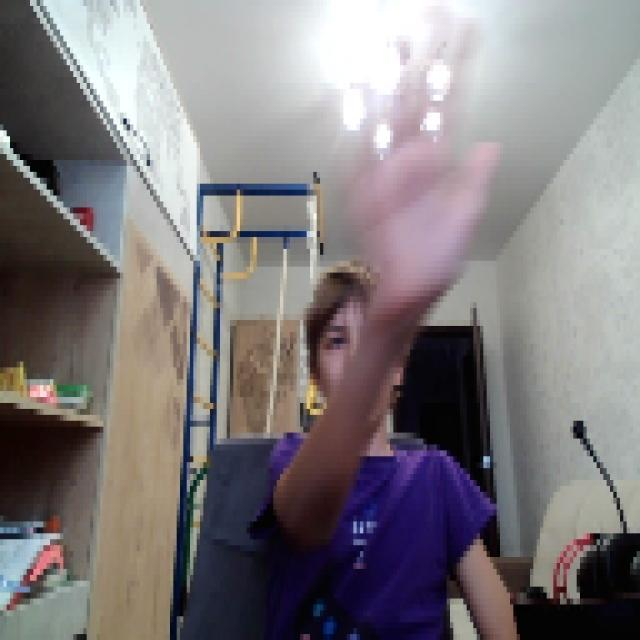hand: (343, 0, 500, 308)
